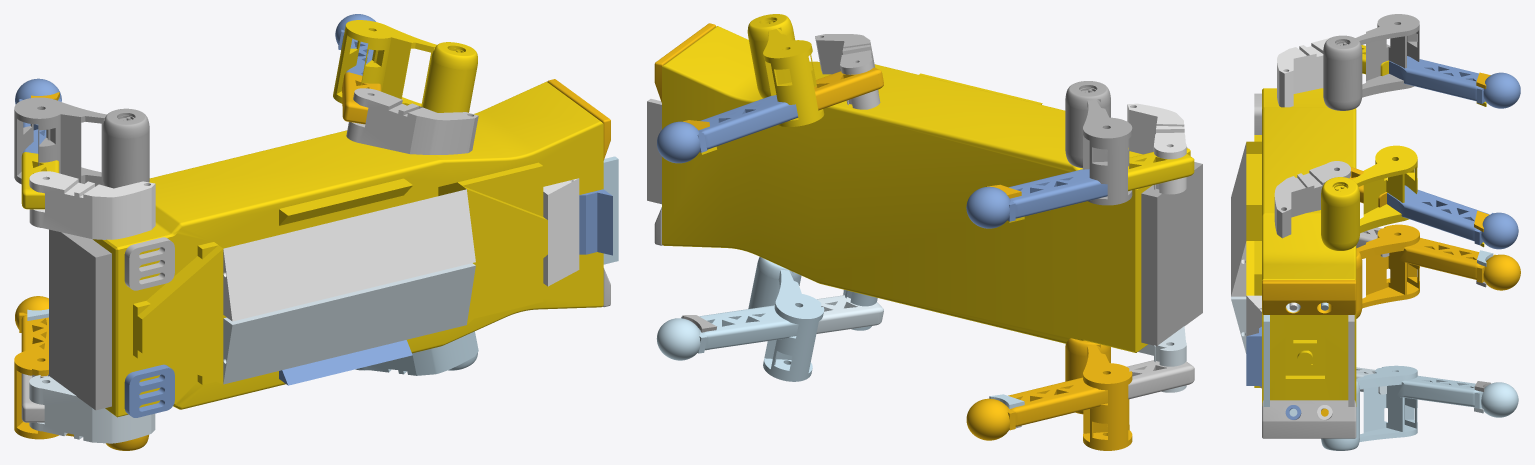
The model's file is Echo v3 (1).gltf.
3 views of the same model, side by side, from view 1: azimuth 30°, elevation 25°; view 2: azimuth 150°, elevation 25°; view 3: azimuth 270°, elevation 25° (orthographic). The views are drawn at different scales.
Parts seen in each view (by area): view 1: Surface 119, Part 12, Part 13, Surface 126, Part 23, Part 24, Part 20, Part 10, Part 21, Part 4, Part 11, Part 9 (+12 smaller); view 2: Surface 119, Surface 126, Part 23, Part 24, Part 25, Part 22, Surface 112, Surface 122, Surface 125, Surface 114, Part 20, Part 10 (+7 smaller); view 3: Surface 119, Part 23, Part 24, Part 25, Part 22, Surface 114, Surface 122, Surface 125, Surface 105, Surface 53, Surface 112, Part 10 (+10 smaller).
Part boxes in pixels (left/top/right/bottom): Surface 119: left=93, top=81, right=603, bottom=417; Part 12: left=223, top=189, right=475, bottom=321; Part 13: left=223, top=263, right=475, bottom=384; Surface 126: left=49, top=229, right=111, bottom=410; Part 23: left=14, top=97, right=149, bottom=188; Part 24: left=333, top=20, right=477, bottom=112; Part 20: left=29, top=171, right=155, bottom=239; Part 10: left=346, top=88, right=478, bottom=154; Part 21: left=29, top=374, right=155, bottom=443; Part 4: left=543, top=178, right=579, bottom=286; Part 11: left=279, top=340, right=412, bottom=385; Part 9: left=359, top=331, right=478, bottom=375; Surface 119: left=662, top=26, right=1190, bottom=352; Surface 126: left=1141, top=162, right=1202, bottom=346; Part 23: left=1065, top=81, right=1132, bottom=205; Part 24: left=747, top=14, right=824, bottom=126; Part 25: left=748, top=257, right=824, bottom=381; Part 22: left=1065, top=338, right=1132, bottom=450; Surface 112: left=656, top=305, right=798, bottom=360; Surface 122: left=966, top=169, right=1107, bottom=228; Surface 125: left=966, top=377, right=1107, bottom=440; Surface 114: left=657, top=95, right=798, bottom=163; Part 20: left=1127, top=103, right=1186, bottom=194; Part 10: left=815, top=34, right=880, bottom=109; Surface 119: left=1246, top=88, right=1356, bottom=406; Part 23: left=1323, top=14, right=1419, bottom=110; Part 24: left=1321, top=145, right=1417, bottom=250; Part 25: left=1321, top=365, right=1417, bottom=450; Part 22: left=1356, top=224, right=1419, bottom=318; Surface 114: left=1387, top=185, right=1518, bottom=249; Surface 122: left=1389, top=56, right=1520, bottom=108; Surface 125: left=1389, top=238, right=1520, bottom=290; Surface 105: left=1262, top=400, right=1356, bottom=438; Surface 53: left=1262, top=280, right=1356, bottom=314; Surface 112: left=1387, top=375, right=1518, bottom=417; Part 10: left=1274, top=161, right=1350, bottom=238.
Bounding box in the file's own units: 0.3395 × 0.1983 × 0.1847.
